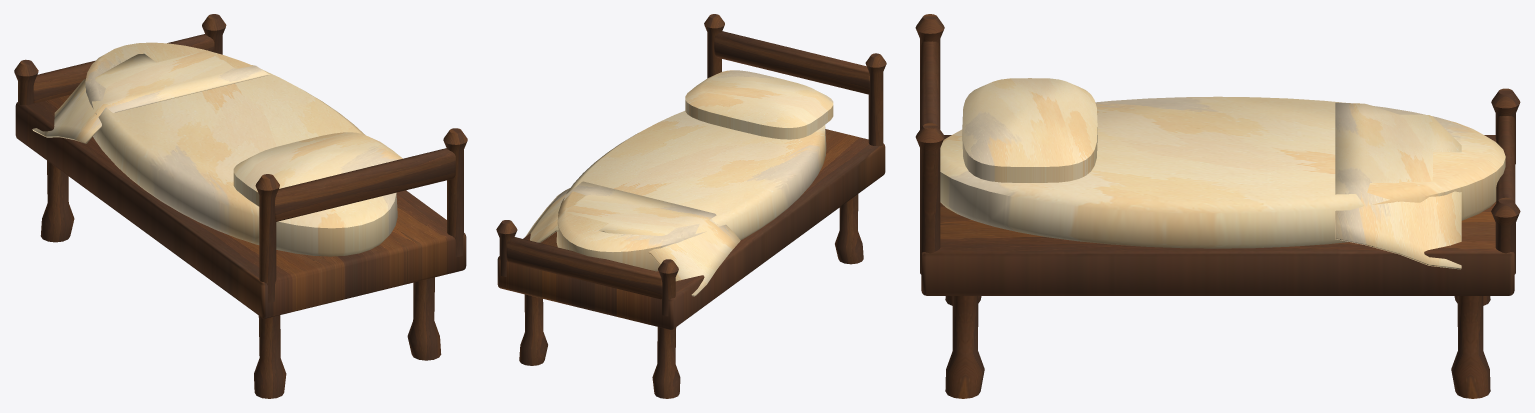
File: CM_AF01_ExaminationCouch.fbx
3 renders of one model, left to right at view 1: azimuth 30°, elevation 25°; view 2: azimuth 150°, elevation 25°; view 3: azimuth 270°, elevation 25°, orthographic. The views are drawn at different scales.
Parts seen in each view (by area): view 1: CM_AF01_ExaminationCouch; view 2: CM_AF01_ExaminationCouch; view 3: CM_AF01_ExaminationCouch.
Part boxes in pixels (x1=…): CM_AF01_ExaminationCouch: x1=14, y1=14, x2=467, y2=398; CM_AF01_ExaminationCouch: x1=496, y1=14, x2=886, y2=398; CM_AF01_ExaminationCouch: x1=915, y1=14, x2=1520, y2=398.
Size of the model in its own units: 1 by 1.03 by 2.06.
